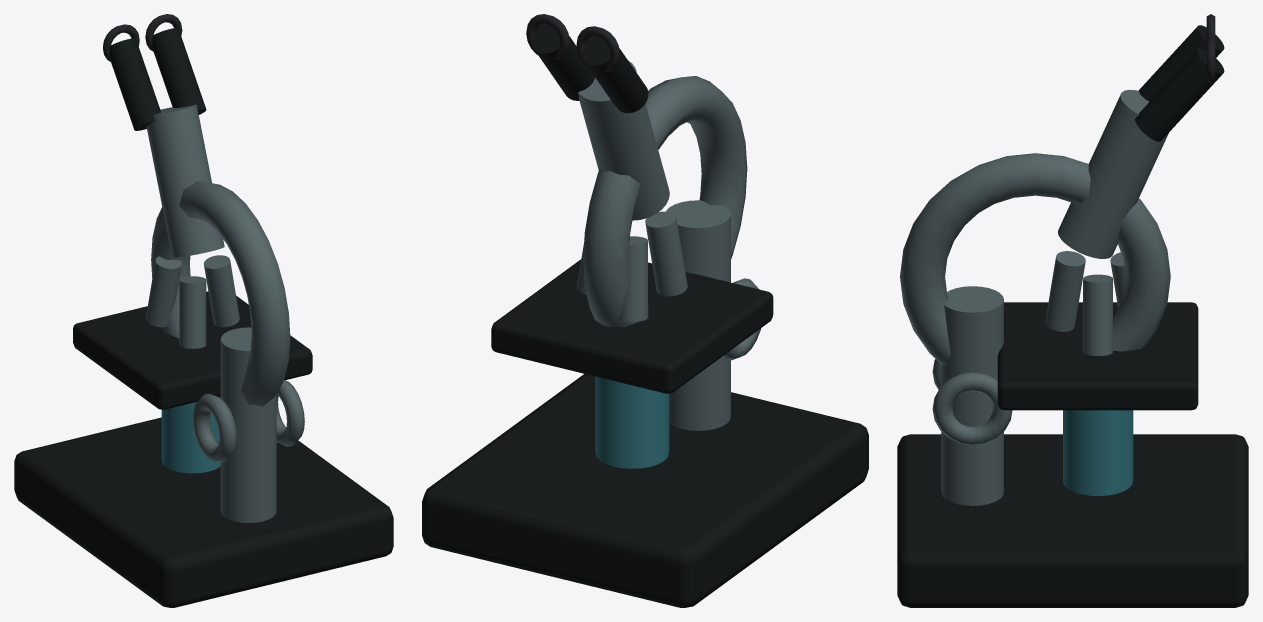
The model's file is Microscope.obj.
The picture shows the model from 3 angles, left to right: view 1: azimuth 30°, elevation 25°; view 2: azimuth 150°, elevation 25°; view 3: azimuth 270°, elevation 25°; orthographic projection. The views are drawn at different scales.
Visible parts, largest first — view 1: Microscope; view 2: Microscope; view 3: Microscope.
Part boxes in pixels (x1,y1,x2,y2): Microscope: (14, 14, 393, 607); Microscope: (422, 14, 868, 607); Microscope: (897, 14, 1248, 607).
Bounding box in the file's own units: 0.24 × 0.4587 × 0.28.
